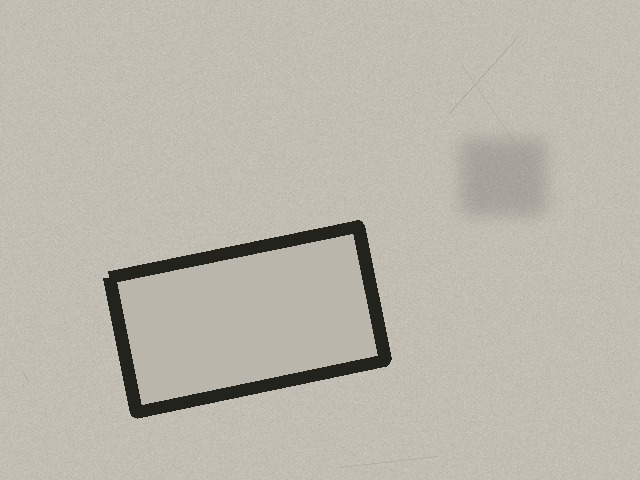parking_area: (109, 226, 385, 412)
